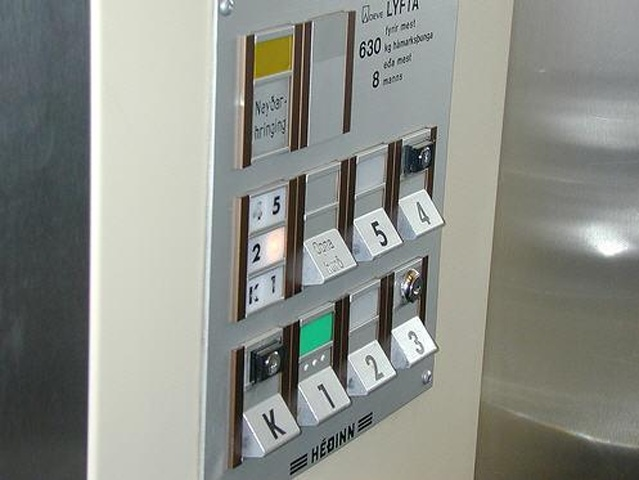1: (297, 365, 353, 426)
2: (348, 340, 397, 397), (244, 226, 288, 277)
3: (391, 316, 439, 371)
4: (398, 189, 446, 242)
5: (353, 207, 403, 263), (246, 180, 288, 237)
K: (243, 394, 302, 455)
K1: (244, 262, 287, 314)
keyhole: (248, 336, 285, 384), (397, 265, 428, 307), (406, 136, 437, 174)
unknown: (302, 228, 358, 285)
